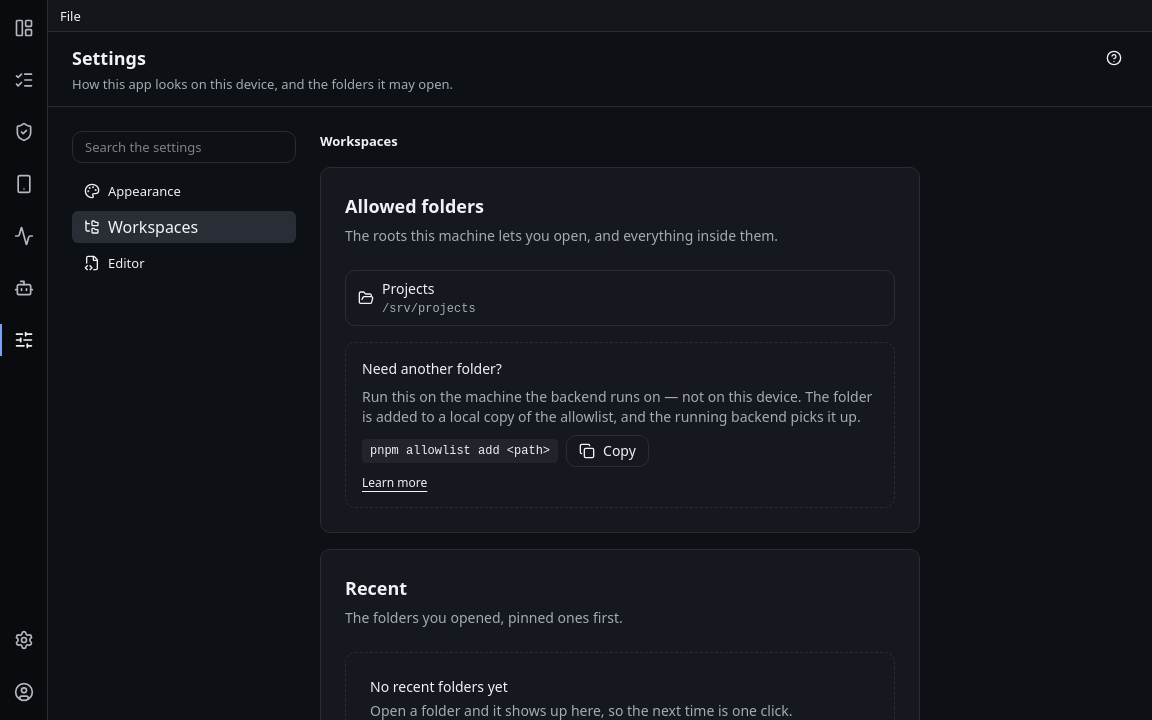
it: the app’s Settings — plan 06, B-31 › Workspaces › offers the help about the allowlist — S-153
Expected: the text "/srv/projects" is shown, left=382, top=301, right=476, bottom=317
Click the button "Learn more". click: coordinates (395, 483)
box: left=362, top=475, right=427, bottom=491
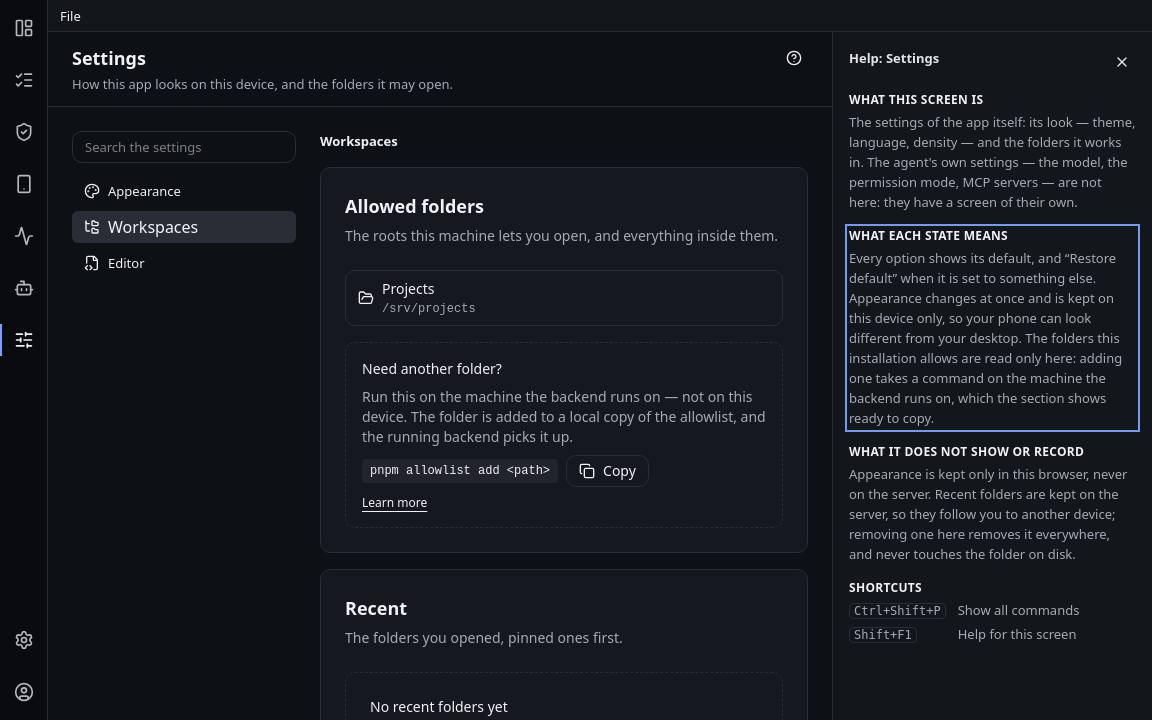
Expected: the text "Every option shows its default, and “Restore default” when it is set to something else. Appearance changes at once and i" is shown, left=849, top=249, right=1122, bottom=427
